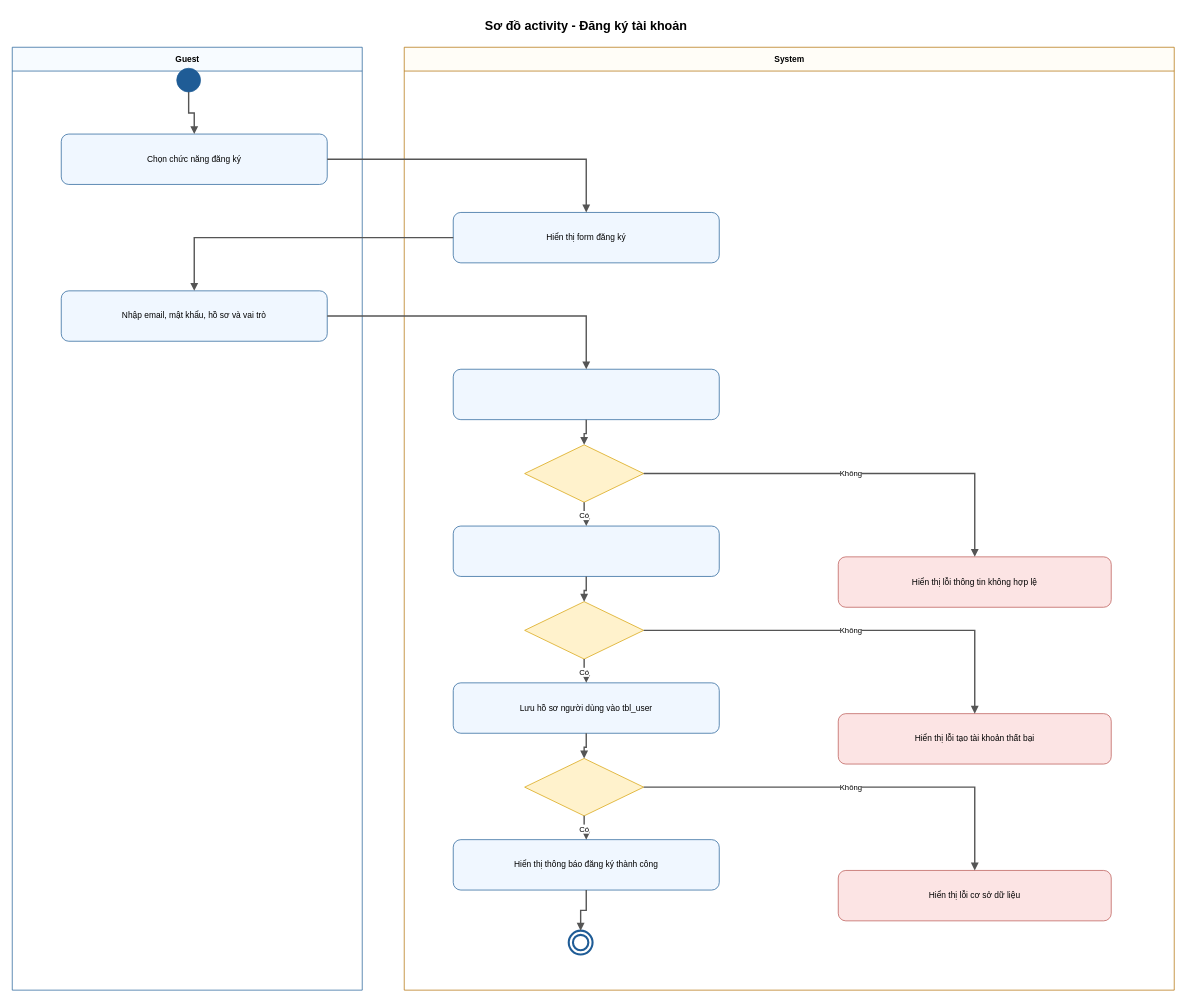
The diagram is 1187 pixels wide and 1002 high, and some of its shapes have lost their labels. Each missing label, with the box of its shape:
Kiểm tra dữ liệu nhập: (453, 369, 719, 420)
Lưu hồ sơ thành công?: (524, 758, 644, 816)
Thông tin hợp lệ?: (524, 444, 644, 502)
Tạo tài khoản bằng Supabase Authentication: (453, 525, 719, 576)
Tạo tài khoản thành công?: (524, 601, 644, 659)
